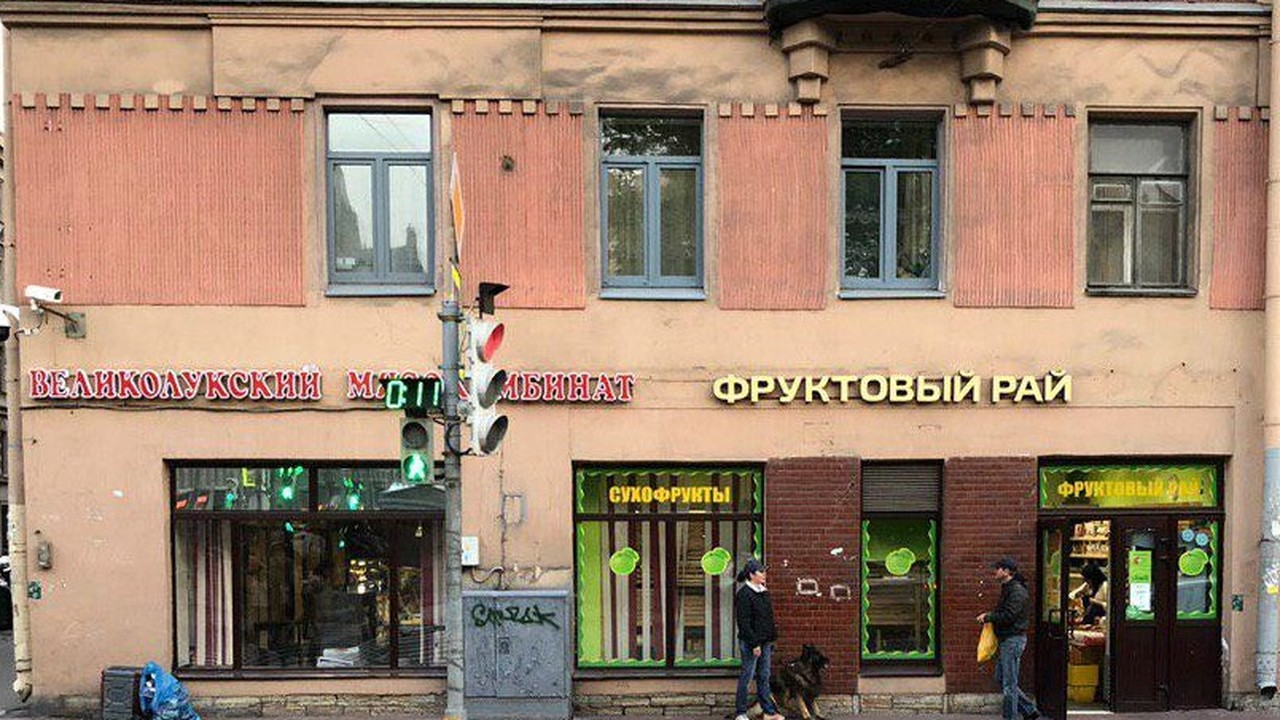door: (1041, 516, 1110, 716)
signboard: (711, 371, 1074, 408), (25, 362, 369, 398), (509, 369, 638, 403)
window: (173, 462, 450, 678), (575, 465, 771, 670), (1044, 462, 1222, 620), (598, 108, 703, 295), (839, 117, 946, 295), (330, 112, 432, 292), (1091, 120, 1195, 296), (859, 462, 943, 667)
